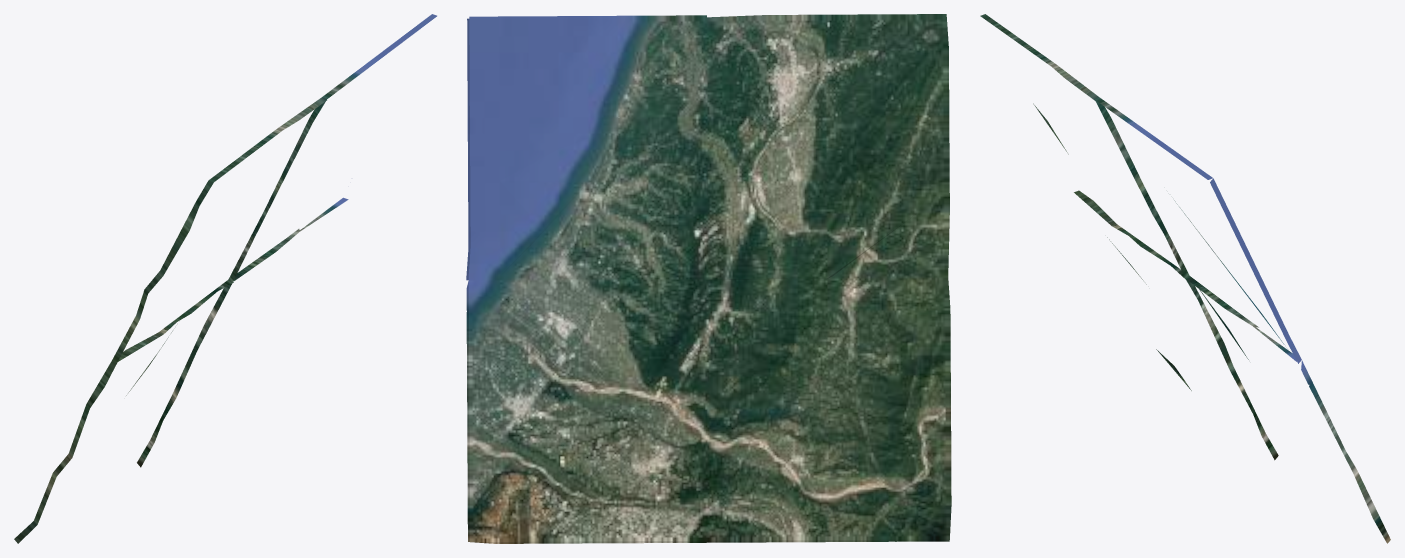
The picture shows the model from 3 angles, left to right: view 1: azimuth 30°, elevation 25°; view 2: azimuth 150°, elevation 25°; view 3: azimuth 270°, elevation 25°; orthographic projection. The views are drawn at different scales.
Bounding box in the file's own units: 40109 × 36017 × 32722.
1 material, 1 textured.
